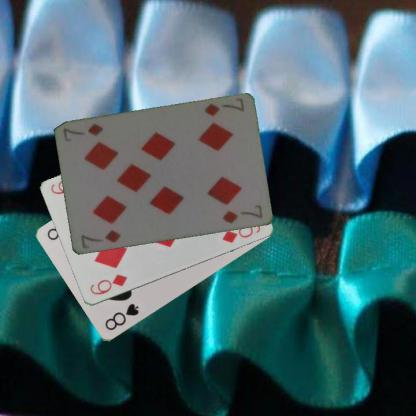6d: (87, 272, 128, 296)
7d: (201, 96, 246, 118), (78, 228, 122, 250)
8s: (102, 301, 140, 332)
